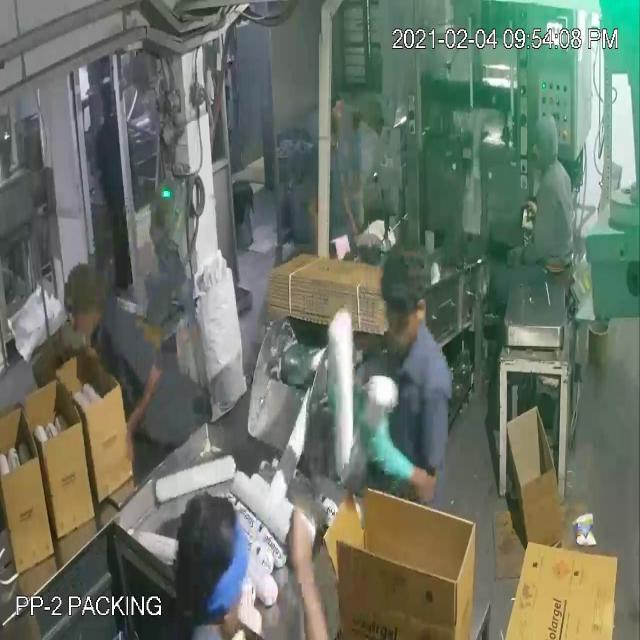gloves: (354, 404, 420, 502)
no-gloves: (115, 348, 168, 486), (336, 166, 360, 248)
